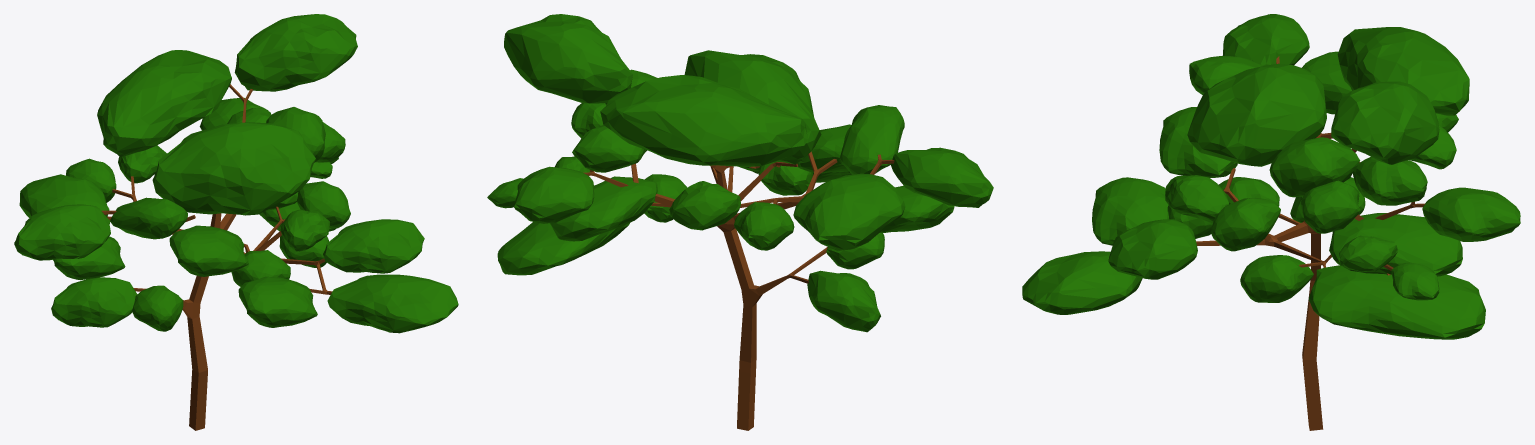
File: LowPolyOak5.fbx
The picture shows the model from 3 angles, left to right: view 1: azimuth 30°, elevation 25°; view 2: azimuth 150°, elevation 25°; view 3: azimuth 270°, elevation 25°; orthographic projection. The views are drawn at different scales.
Visible parts, largest first — view 1: Icosphere.003, Icosphere.013, Icosphere.004, Icosphere.002, Icosphere.014, Icosphere.017, Cube, Icosphere, Icosphere.005, Icosphere.015, Icosphere.024, Icosphere.018 (+13 smaller); view 2: Icosphere.013, Icosphere.004, Cube, Icosphere.024, Icosphere.003, Icosphere.017, Icosphere.021, Icosphere.022, Icosphere.020, Icosphere.018, Icosphere, Icosphere.019 (+9 smaller); view 3: Icosphere.003, Icosphere.020, Icosphere.013, Icosphere.004, Icosphere.002, Icosphere.021, Icosphere.014, Icosphere.022, Cube, Icosphere.011, Icosphere.005, Icosphere.017 (+13 smaller).
Part boxes in pixels (x1=…): Icosphere.003: x1=152, y1=122, x2=315, y2=215; Icosphere.013: x1=97, y1=50, x2=231, y2=157; Icosphere.004: x1=234, y1=14, x2=357, y2=91; Icosphere.002: x1=327, y1=274, x2=458, y2=333; Icosphere.014: x1=323, y1=219, x2=424, y2=273; Icosphere.017: x1=14, y1=204, x2=110, y2=260; Cube: x1=102, y1=84, x2=332, y2=430; Icosphere: x1=51, y1=277, x2=137, y2=327; Icosphere.005: x1=238, y1=276, x2=317, y2=327; Icosphere.015: x1=169, y1=225, x2=248, y2=276; Icosphere.024: x1=19, y1=174, x2=109, y2=217; Icosphere.018: x1=110, y1=197, x2=187, y2=239; Icosphere.013: x1=600, y1=75, x2=808, y2=166; Icosphere.004: x1=504, y1=14, x2=632, y2=103; Cube: x1=583, y1=151, x2=894, y2=430; Icosphere.024: x1=793, y1=173, x2=905, y2=250; Icosphere.003: x1=684, y1=50, x2=821, y2=164; Icosphere.017: x1=891, y1=147, x2=993, y2=207; Icosphere.021: x1=550, y1=176, x2=657, y2=241; Icosphere.022: x1=514, y1=166, x2=594, y2=223; Icosphere.020: x1=497, y1=222, x2=630, y2=275; Icosphere.018: x1=839, y1=105, x2=904, y2=174; Icosphere: x1=807, y1=270, x2=880, y2=332; Icosphere.019: x1=669, y1=181, x2=740, y2=230; Icosphere.003: x1=1187, y1=63, x2=1326, y2=166; Icosphere.020: x1=1308, y1=265, x2=1485, y2=339; Icosphere.013: x1=1337, y1=27, x2=1469, y2=115; Icosphere.004: x1=1331, y1=81, x2=1439, y2=164; Icosphere.002: x1=1022, y1=251, x2=1142, y2=314; Icosphere.021: x1=1329, y1=213, x2=1462, y2=276; Icosphere.014: x1=1108, y1=219, x2=1197, y2=279; Icosphere.022: x1=1422, y1=187, x2=1520, y2=241; Cube: x1=1196, y1=56, x2=1425, y2=430; Icosphere.011: x1=1269, y1=137, x2=1360, y2=197; Icosphere.005: x1=1092, y1=177, x2=1168, y2=245; Icosphere.017: x1=1222, y1=14, x2=1309, y2=65.
Bounding box in the file's own units: 1283 × 1118 × 1216.
